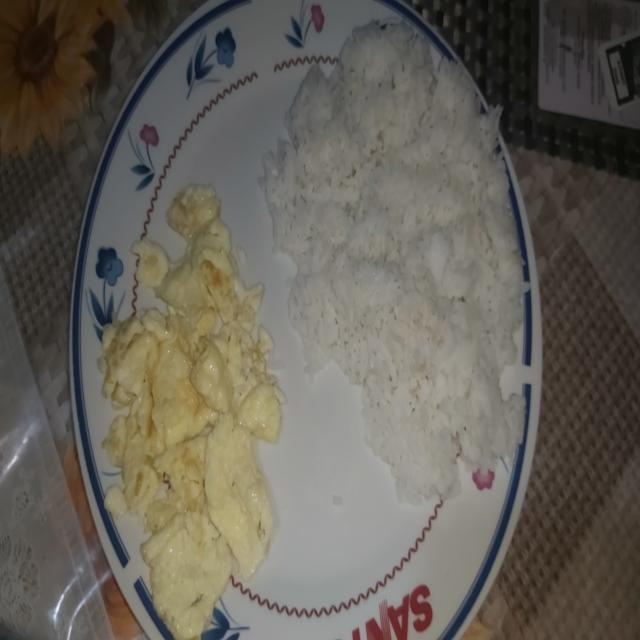Chicken -Chicken Inasal-: (274, 10, 526, 477)
